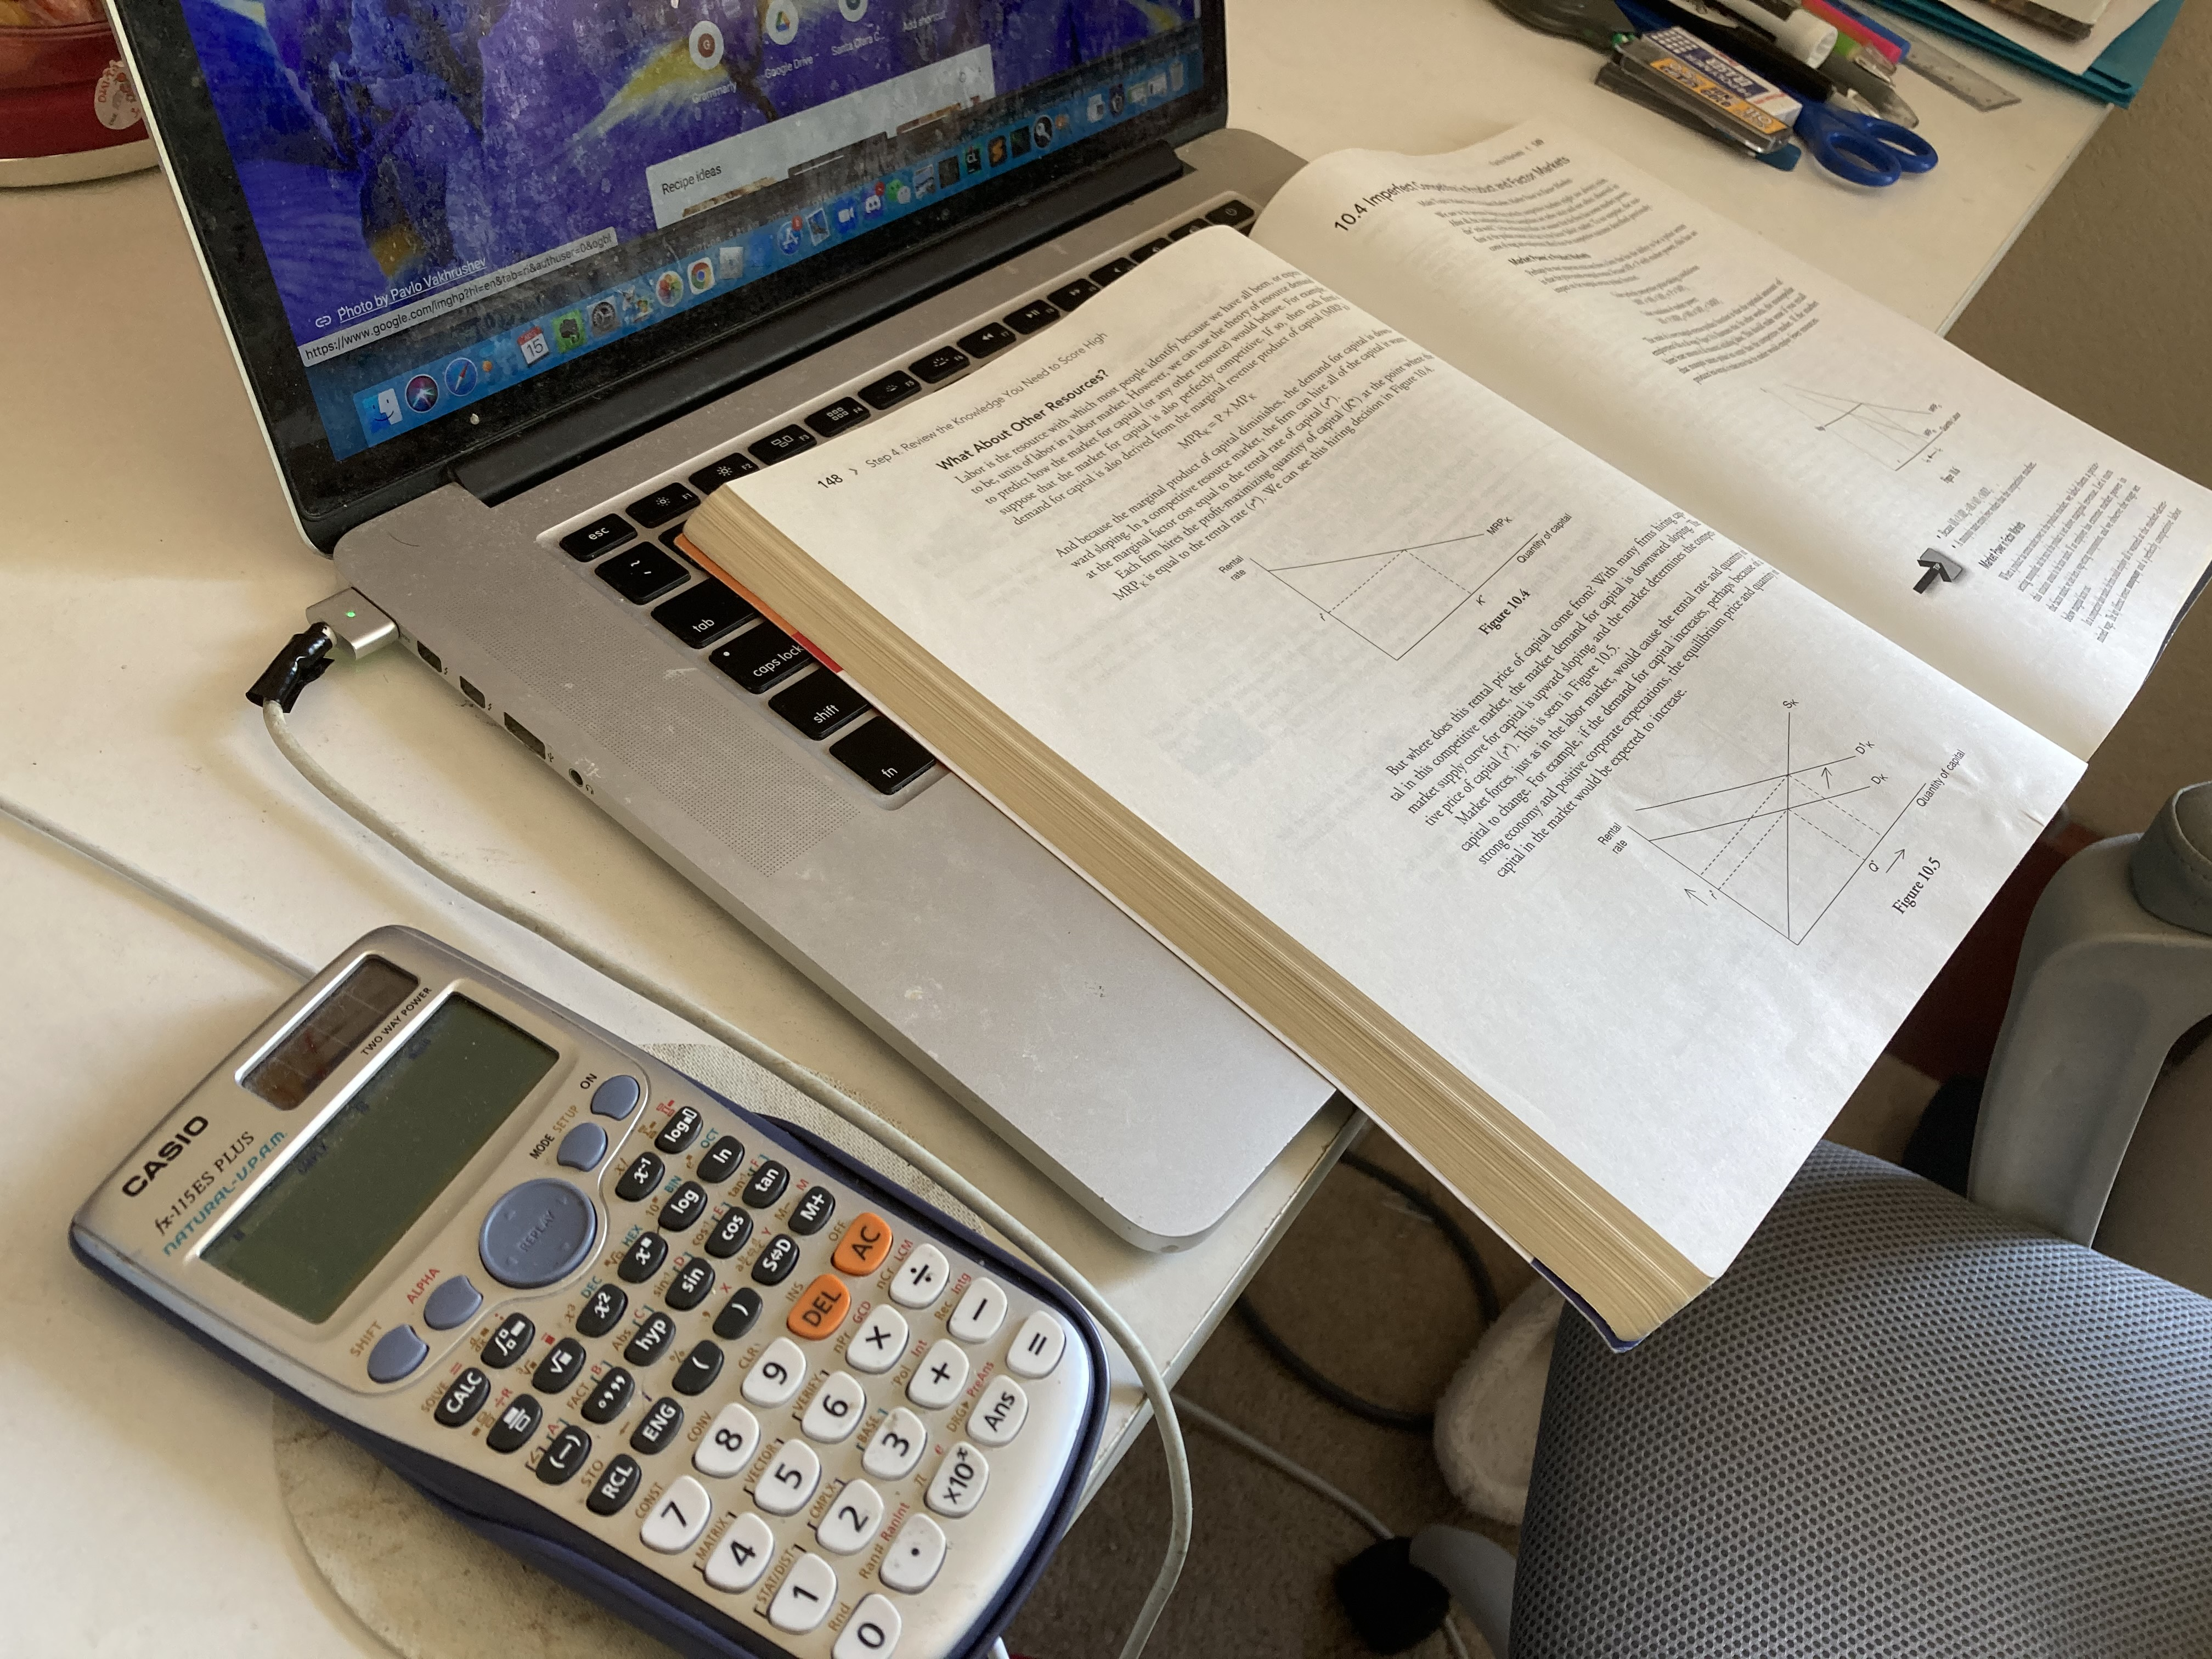Calculator: (63, 941, 1116, 1659)
Open Book: (683, 117, 2212, 1352)
